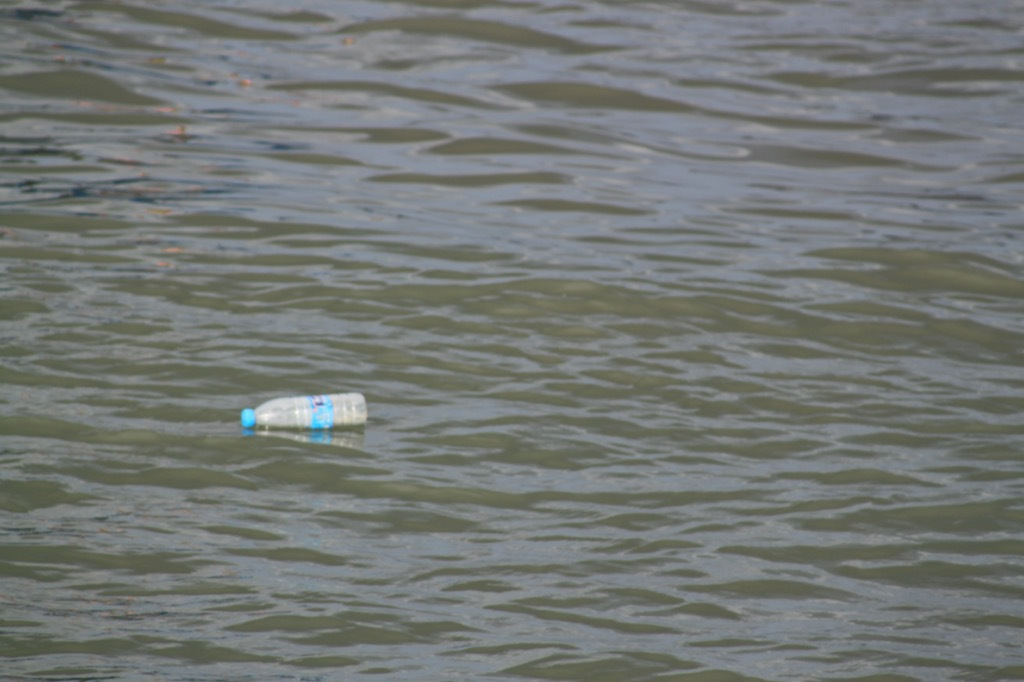plastic: (216, 362, 387, 463)
